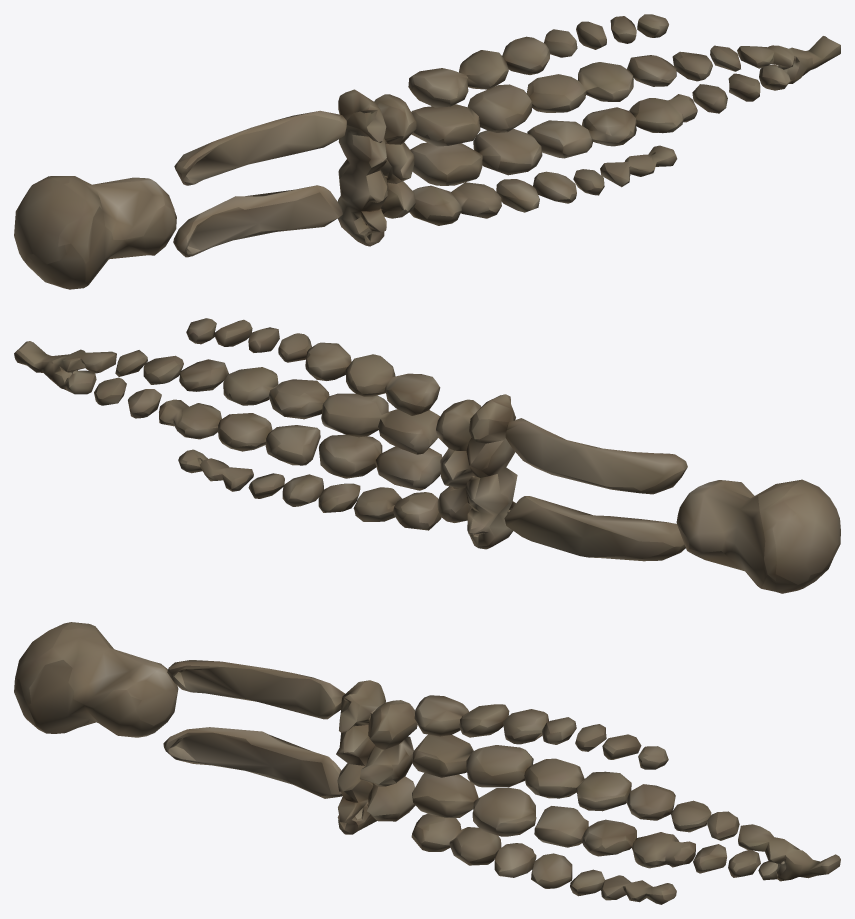
File: whale_bone_flipper.glb
3 views of the same model, one above another, from view 1: azimuth 30°, elevation 25°; view 2: azimuth 150°, elevation 25°; view 3: azimuth 330°, elevation 25° (orthographic).
Visible parts, largest first — view 1: world; view 2: world; view 3: world.
Part boxes in pixels (<box>): world: <box>14,14,840,289</box>; world: <box>14,318,840,593</box>; world: <box>14,622,840,904</box>.
Bounding box in the file's own units: 1 × 0.1944 × 0.1297.
